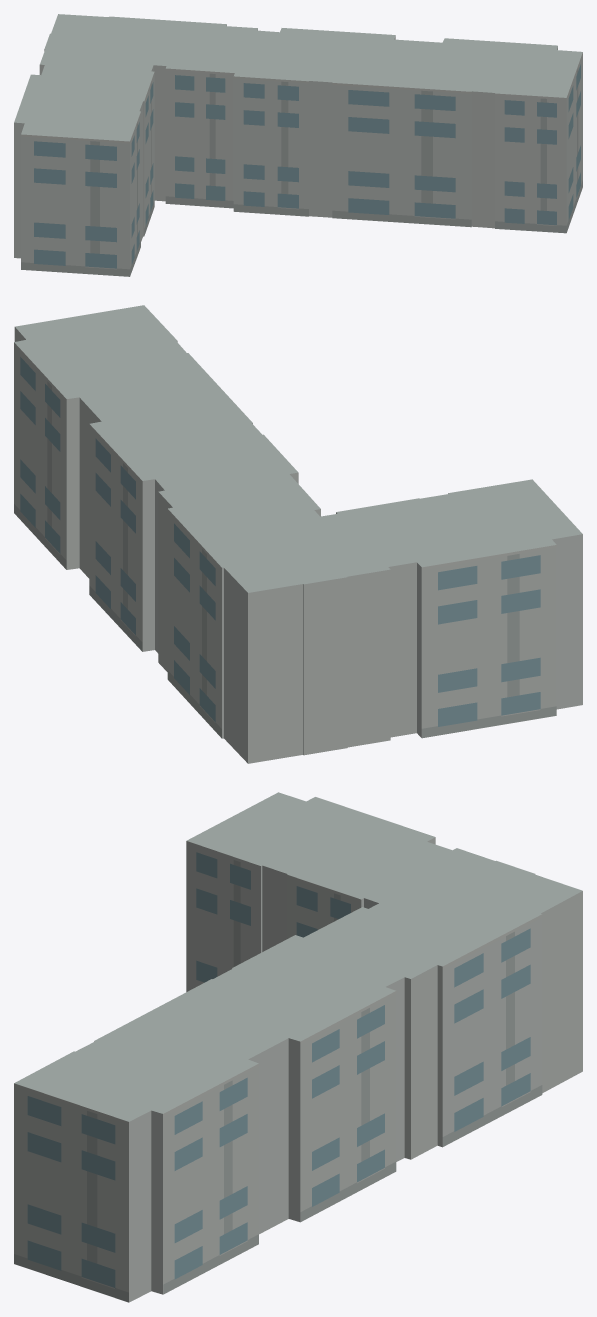
Rendered from survey-upis-32902663.glb.
The picture shows the model from 3 angles, top to bottom: view 1: azimuth 30°, elevation 25°; view 2: azimuth 150°, elevation 25°; view 3: azimuth 270°, elevation 25°; orthographic projection. The views are drawn at different scales.
Visible parts, largest first — view 1: survey-upis-32902663.tmp; view 2: survey-upis-32902663.tmp; view 3: survey-upis-32902663.tmp.
Boxes of the visible parts, x1,y1,x2,y2 form: survey-upis-32902663.tmp: (14,14,582,276); survey-upis-32902663.tmp: (14,305,582,763); survey-upis-32902663.tmp: (14,792,582,1302).
Size of the model in its own units: 59.66 by 15.25 by 43.51.
